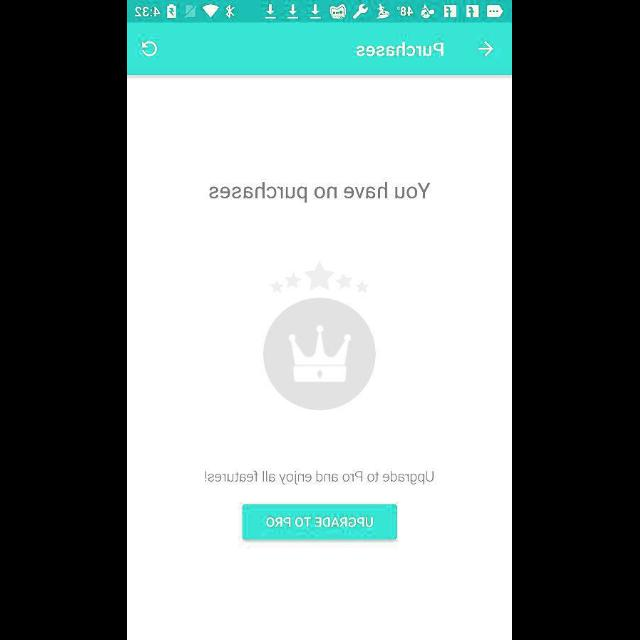icon: (142, 42, 158, 58), (478, 42, 494, 58)
image: (264, 298, 376, 410), (270, 260, 370, 294)
text: (210, 182, 430, 204), (206, 470, 434, 486), (358, 42, 444, 58)
textbutton: (242, 504, 398, 540)
toolbar: (128, 24, 512, 76)
uppertaskbar: (128, 1, 512, 23)
